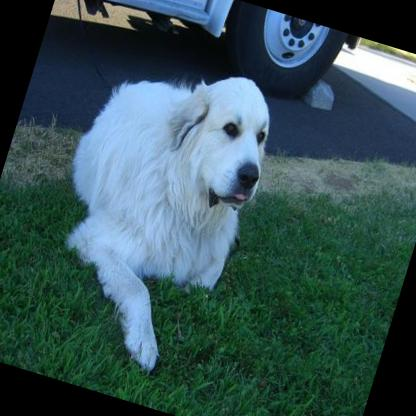Great_Pyrenees: (15, 28, 297, 392)
